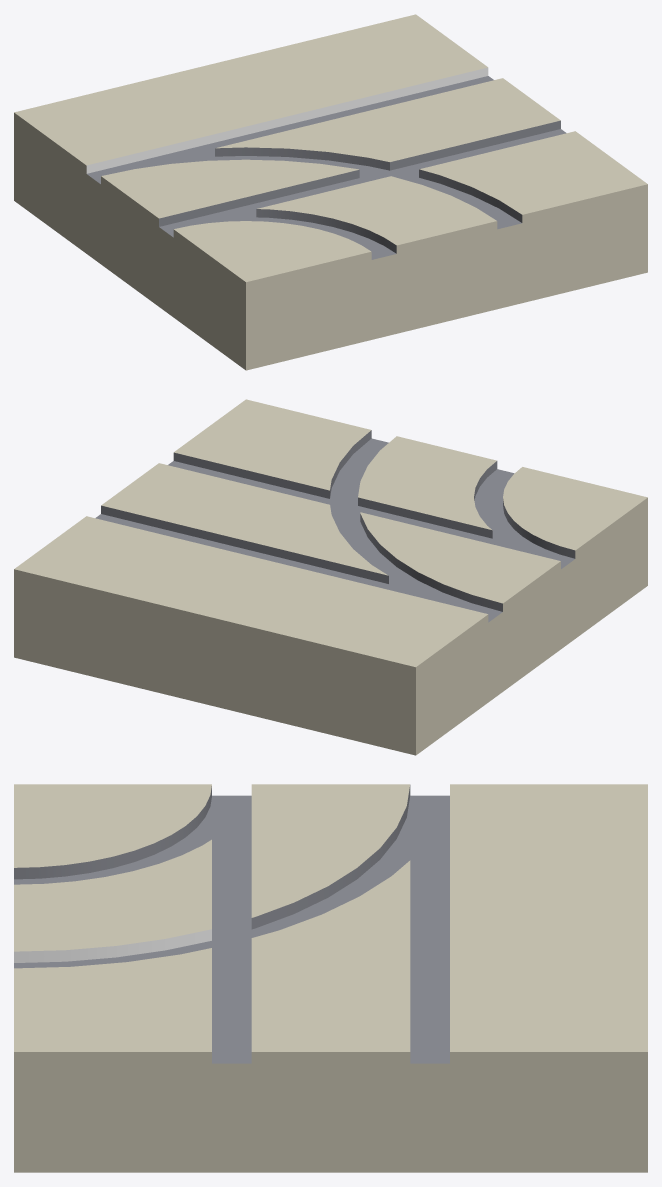
Rendered from tile247.fbx.
The picture shows the model from 3 angles, top to bottom: view 1: azimuth 30°, elevation 25°; view 2: azimuth 150°, elevation 25°; view 3: azimuth 270°, elevation 25°; orthographic projection. The views are drawn at different scales.
Visible parts, largest first — view 1: tile247; view 2: tile247; view 3: tile247.
Part boxes in pixels (<box>): tile247: <box>14,14,647,370</box>; tile247: <box>14,399,647,755</box>; tile247: <box>14,784,647,1172</box>.
Bounding box in the file's own units: 10 × 2.1 × 10.
